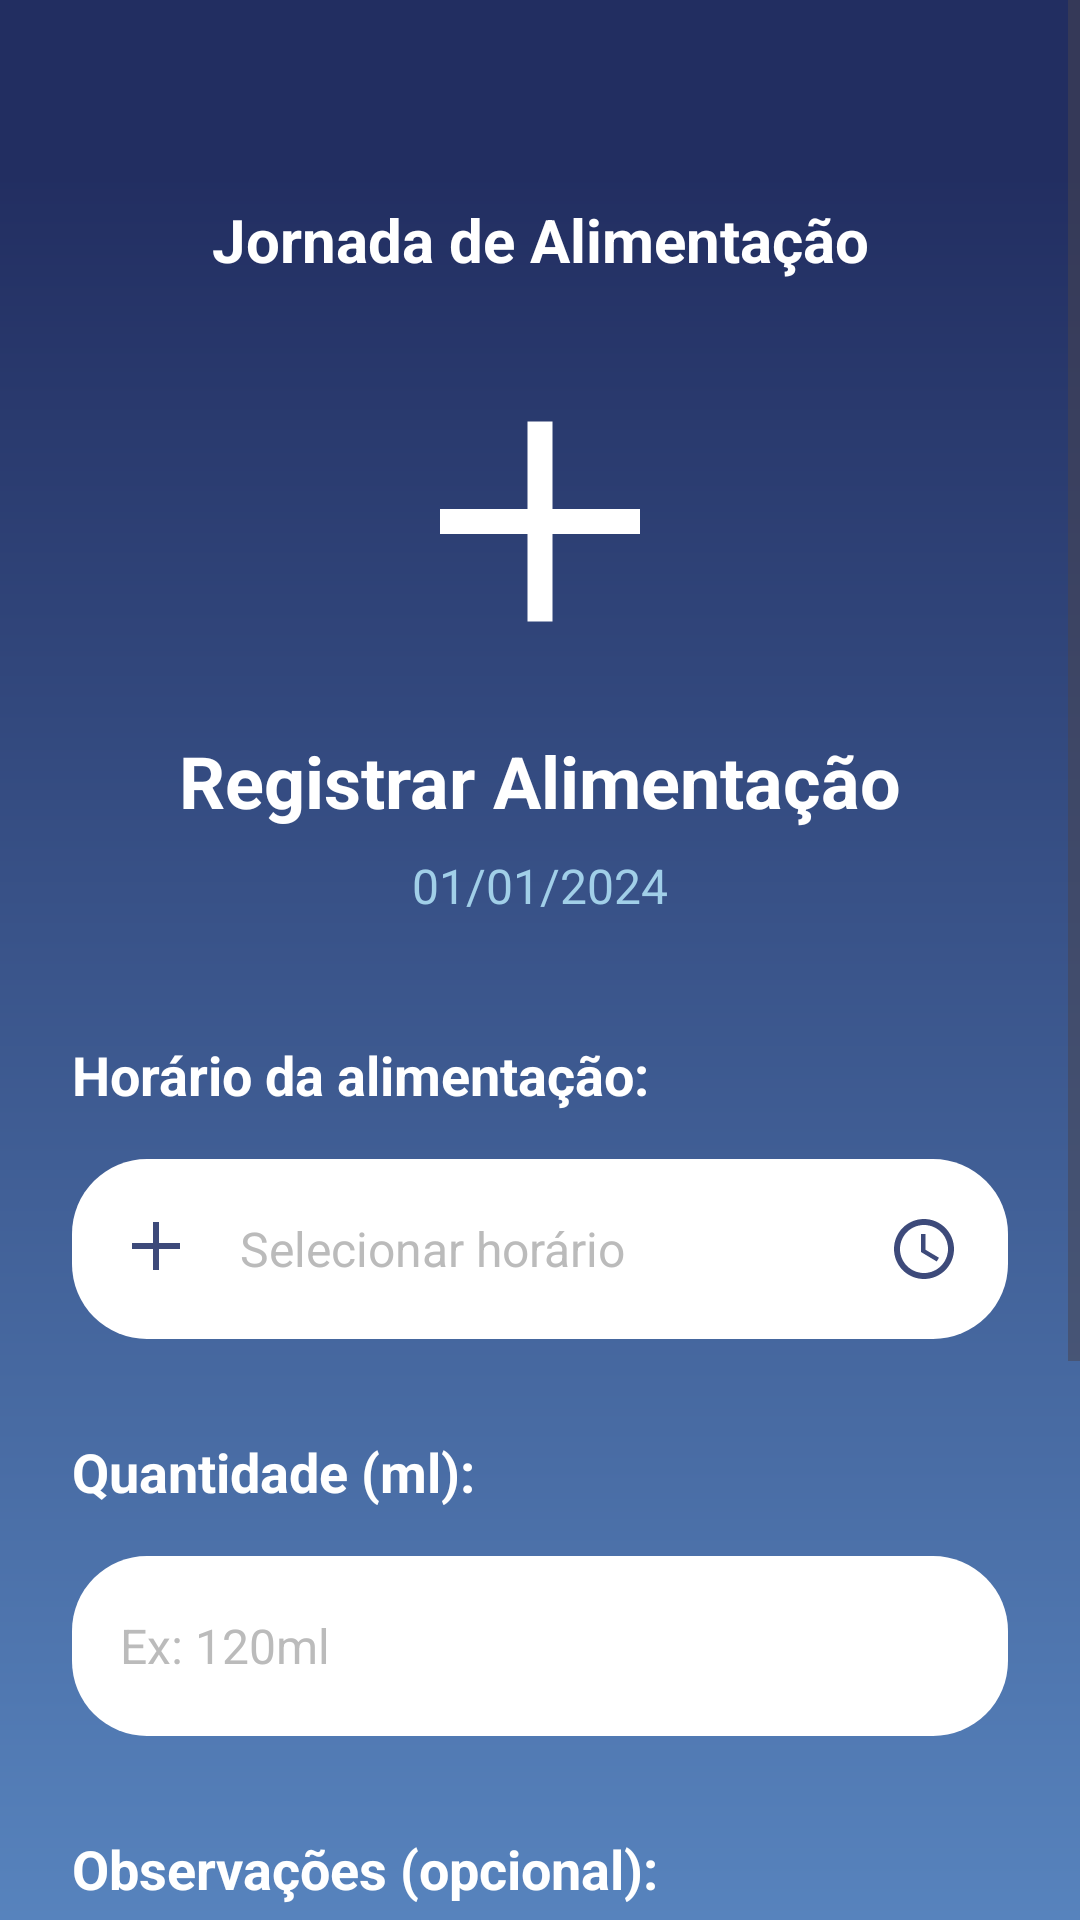

Icons on this 1080*1920 Android screen, each with the point to tap as (x=x, y=y):
clock: (x=924, y=1249)
